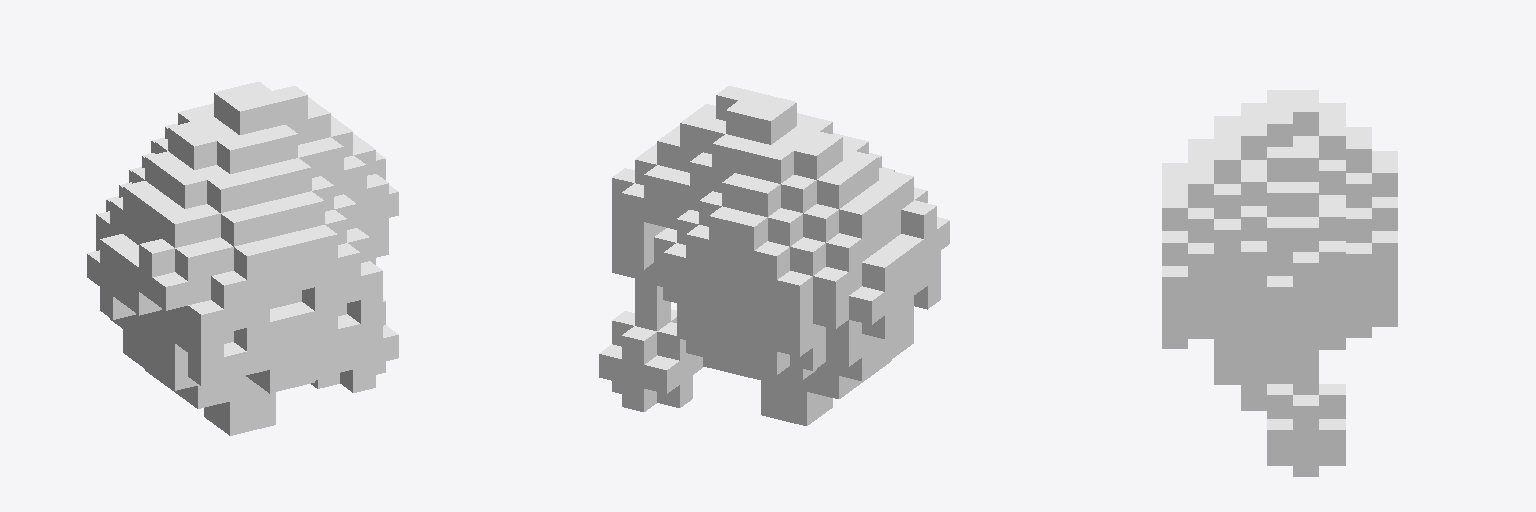
File: Head.obj
3 views of the same model, side by side, from view 1: azimuth 30°, elevation 25°; view 2: azimuth 150°, elevation 25°; view 3: azimuth 270°, elevation 25° (orthographic).
Visible parts, largest first — view 1: mr-p-Sheet; view 2: mr-p-Sheet; view 3: mr-p-Sheet.
Boxes of the visible parts, x1=… form: mr-p-Sheet: x1=87, y1=82, x2=398, y2=435; mr-p-Sheet: x1=599, y1=86, x2=949, y2=425; mr-p-Sheet: x1=1162, y1=90, x2=1397, y2=476.
Bounding box in the file's own units: 1.2 × 1.3 × 0.9.